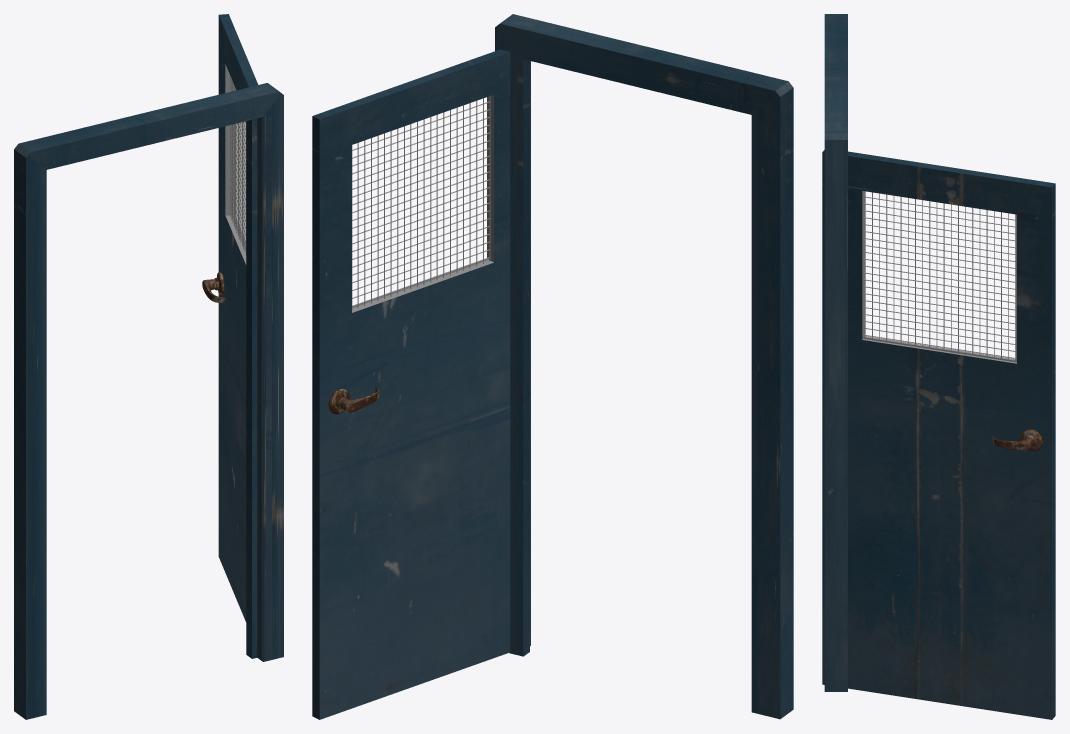
The model's file is Door.fbx.
3 views of the same model, side by side, from view 1: azimuth 30°, elevation 25°; view 2: azimuth 150°, elevation 25°; view 3: azimuth 270°, elevation 25° (orthographic). The views are drawn at different scales.
Visible parts, largest first — view 1: DoorFrame, Door; view 2: Door, DoorFrame; view 3: Door, DoorFrame.
Boxes of the visible parts, x1,y1,x2,y2 form: DoorFrame: [14, 83, 283, 719]; Door: [202, 14, 271, 660]; Door: [312, 49, 530, 719]; DoorFrame: [495, 14, 793, 719]; Door: [822, 150, 1055, 719]; DoorFrame: [824, 14, 847, 691].
Size of the model in its own units: 128 by 210 by 79.72.
